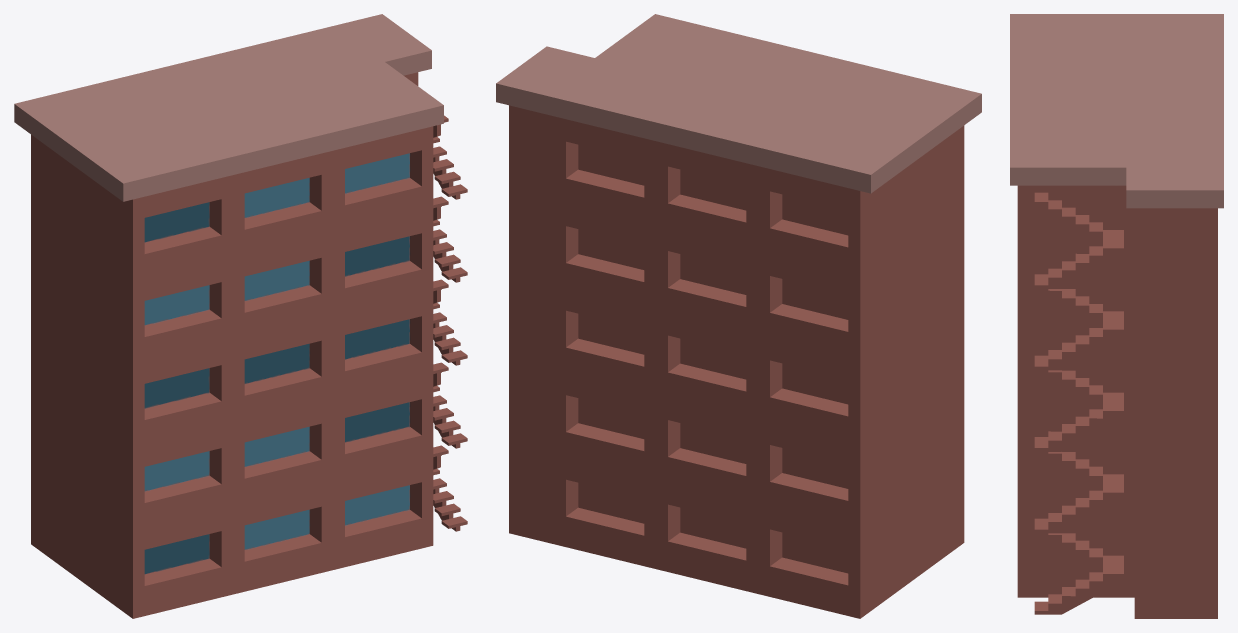
The model's file is Building_C.fbx.
The picture shows the model from 3 angles, left to right: view 1: azimuth 30°, elevation 25°; view 2: azimuth 150°, elevation 25°; view 3: azimuth 270°, elevation 25°; orthographic projection. The views are drawn at different scales.
Parts seen in each view (by area): view 1: Building_C; view 2: Building_C; view 3: Building_C.
Part boxes in pixels (x1,y1,x2,y2): Building_C: (14,14,467,618); Building_C: (496,14,981,618); Building_C: (1010,14,1223,618).
Bounding box in the file's own units: 443 × 508 × 227.
